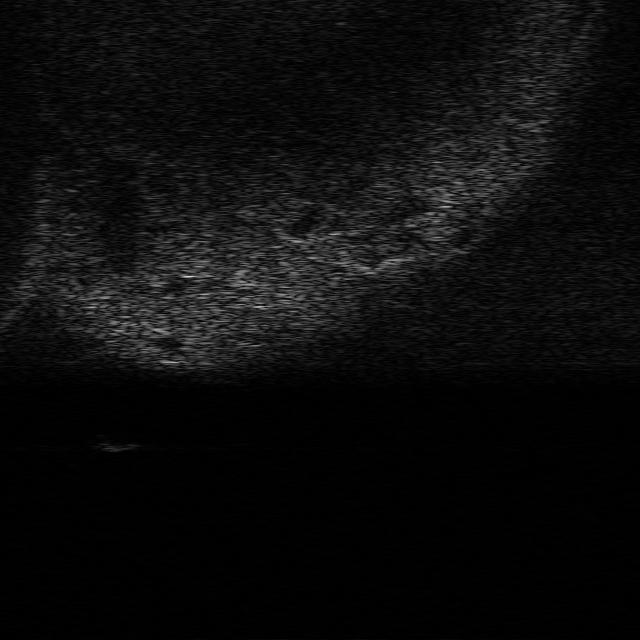cube: (91, 430, 141, 452)
